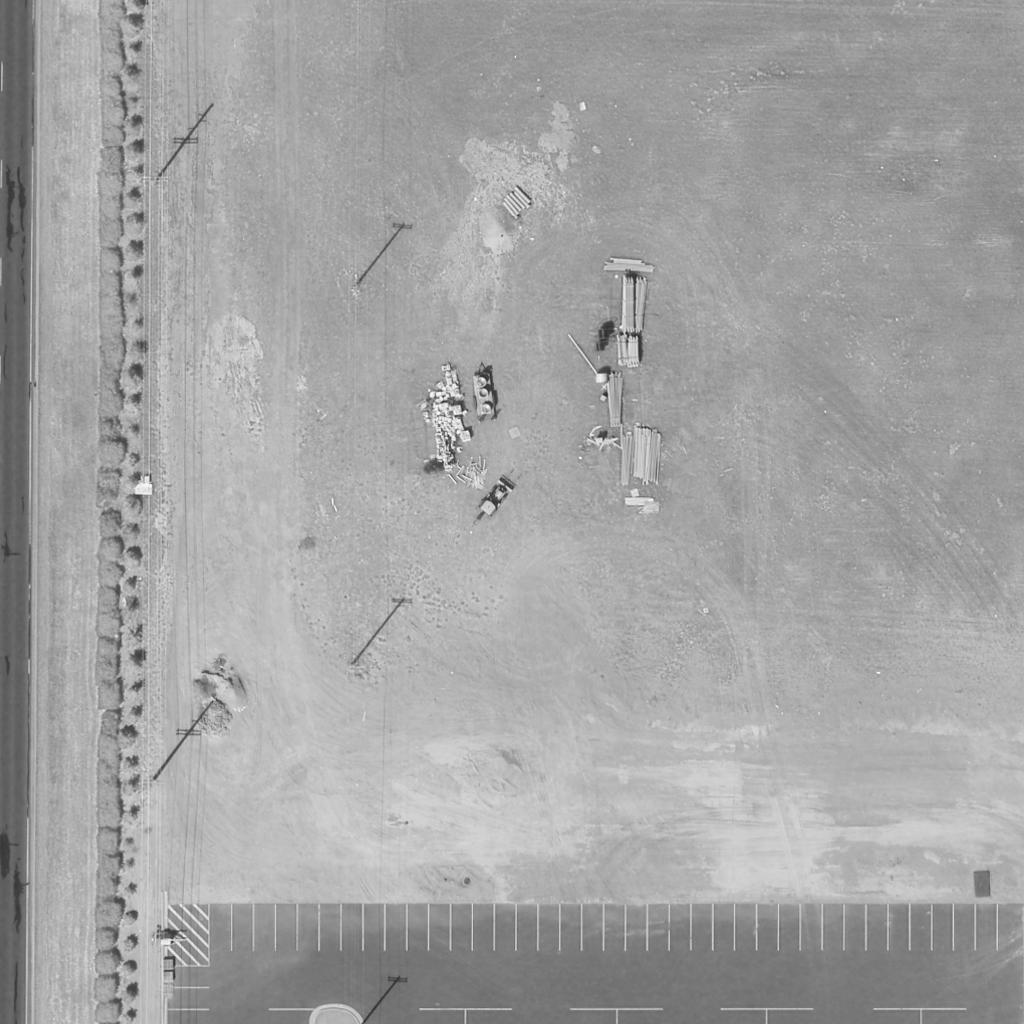vehicle: (478, 478, 518, 518)
